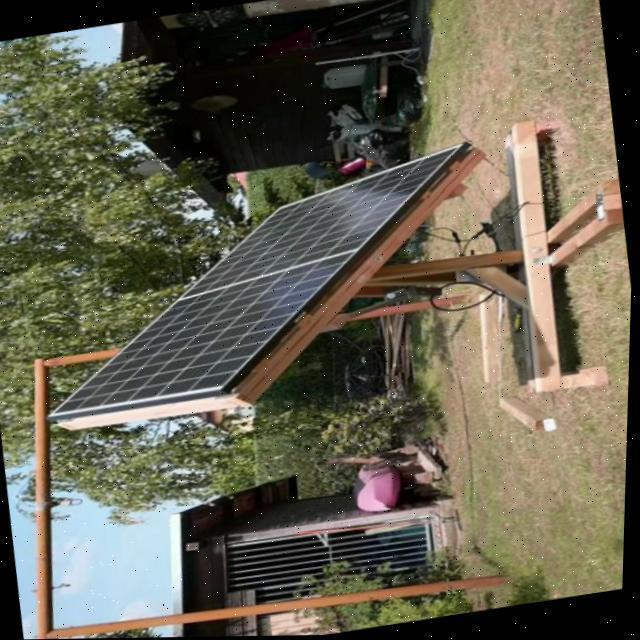Normal Solar Panel: (29, 148, 492, 418)
